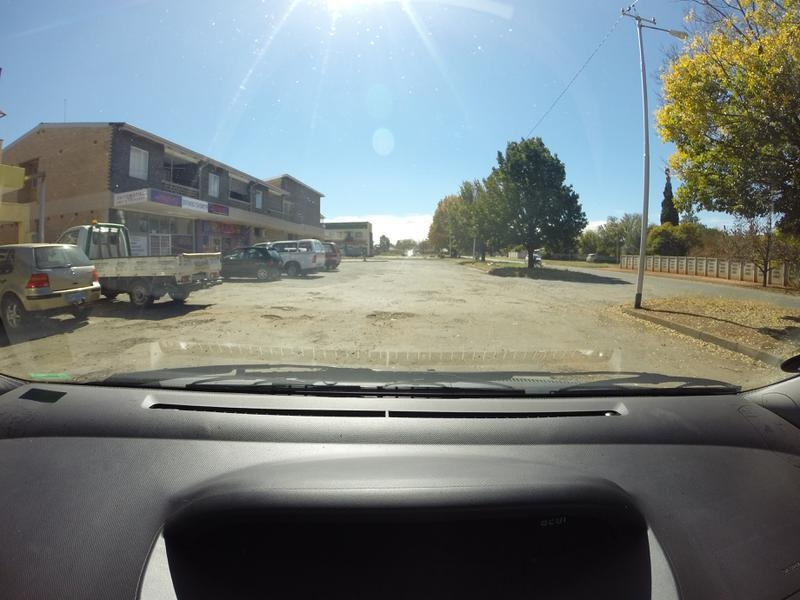pothole: (86, 329, 153, 358), (350, 307, 418, 323), (177, 311, 212, 328), (423, 294, 464, 307), (299, 293, 332, 307), (274, 301, 298, 312), (252, 314, 280, 319)
